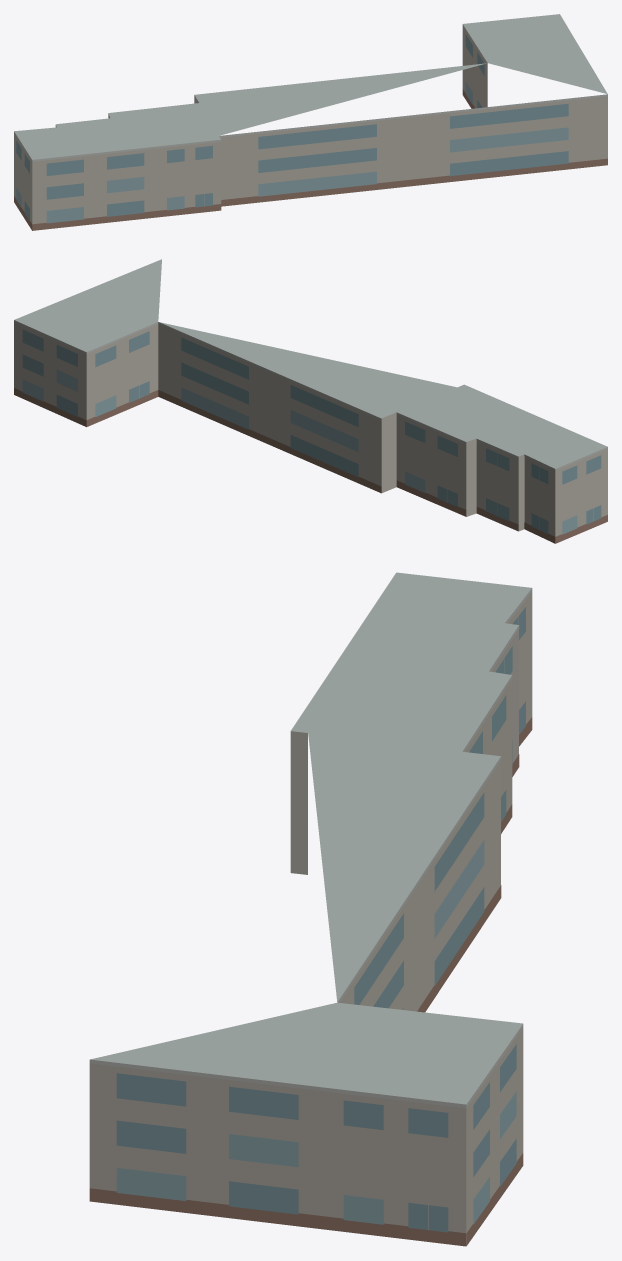
Rendered from survey-upis-32790979.glb.
3 renders of one model, top to bottom at view 1: azimuth 30°, elevation 25°; view 2: azimuth 150°, elevation 25°; view 3: azimuth 270°, elevation 25°, orthographic. The views are drawn at different scales.
Visible parts, largest first — view 1: survey-upis-32790979.tmp; view 2: survey-upis-32790979.tmp; view 3: survey-upis-32790979.tmp.
Part boxes in pixels (bbox=[...]): survey-upis-32790979.tmp: bbox=[14, 14, 607, 230]; survey-upis-32790979.tmp: bbox=[14, 259, 607, 543]; survey-upis-32790979.tmp: bbox=[89, 572, 532, 1246].
Size of the model in its own units: 73.59 by 9.15 by 25.87.
